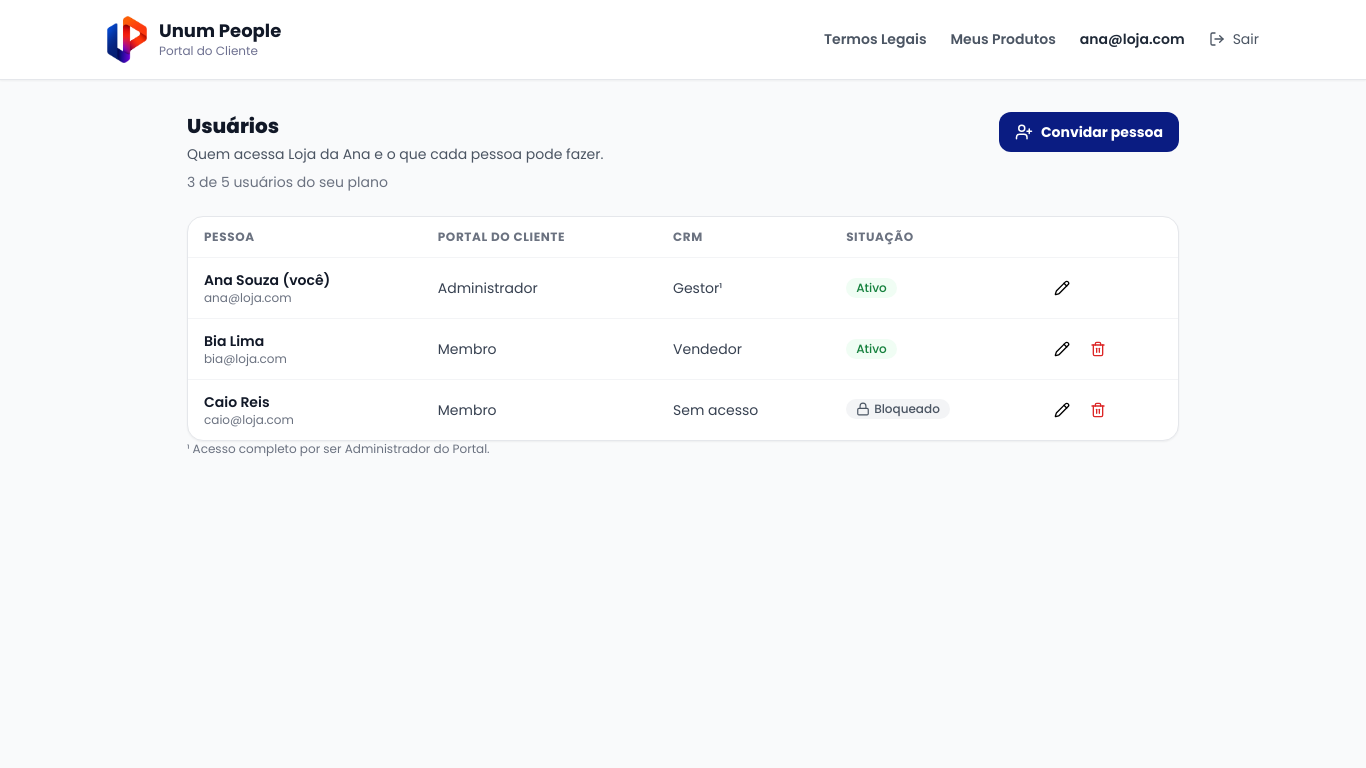
Página Usuários › convidado aparece mesmo se a lista recarregada ainda não o traz
Expected: the table is shown, [188, 217, 1178, 440]
Click the button "Convidar pessoa": (1089, 132) [999, 112, 1179, 152]
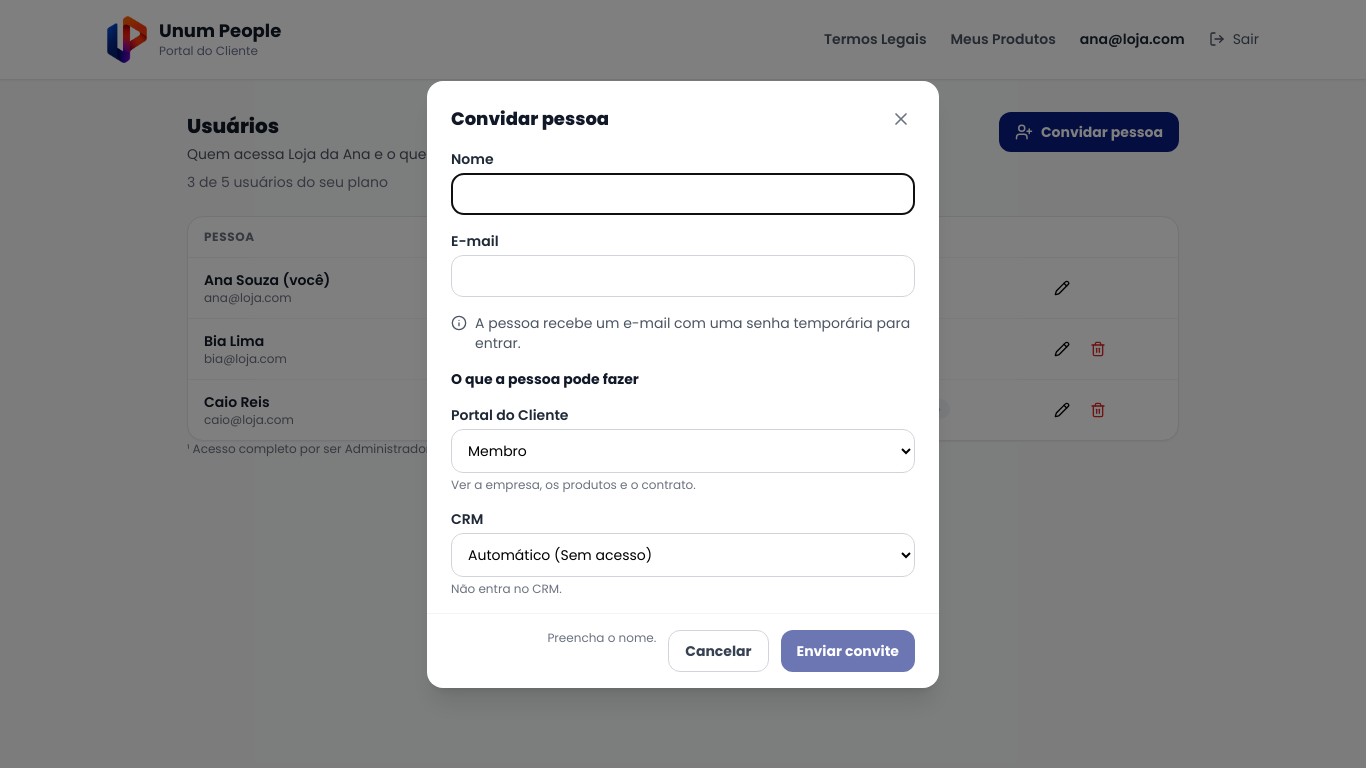
In the field labelled "Nome": (683, 194) [451, 172, 915, 214], type "Edu Prado"
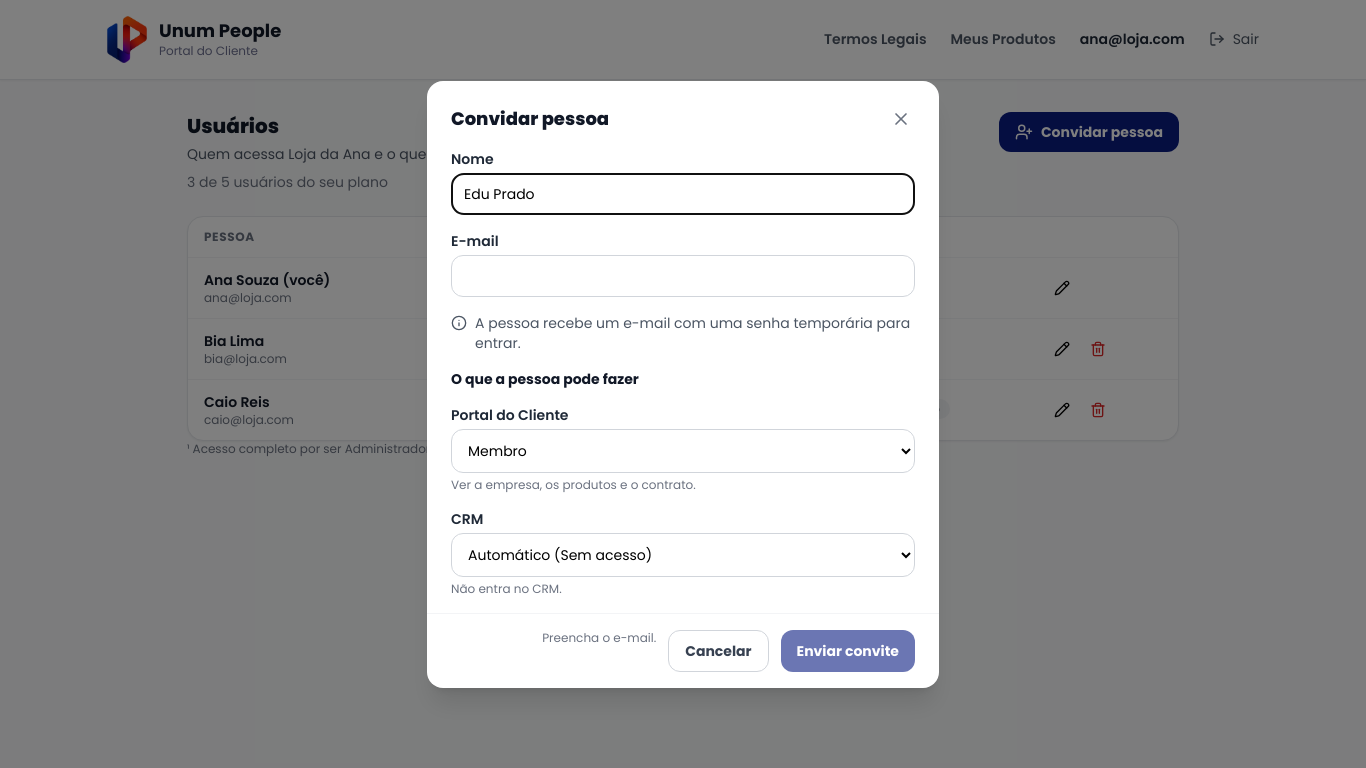
In the field labelled "E-mail": (683, 276) [451, 254, 915, 296], type "edu@loja.com"
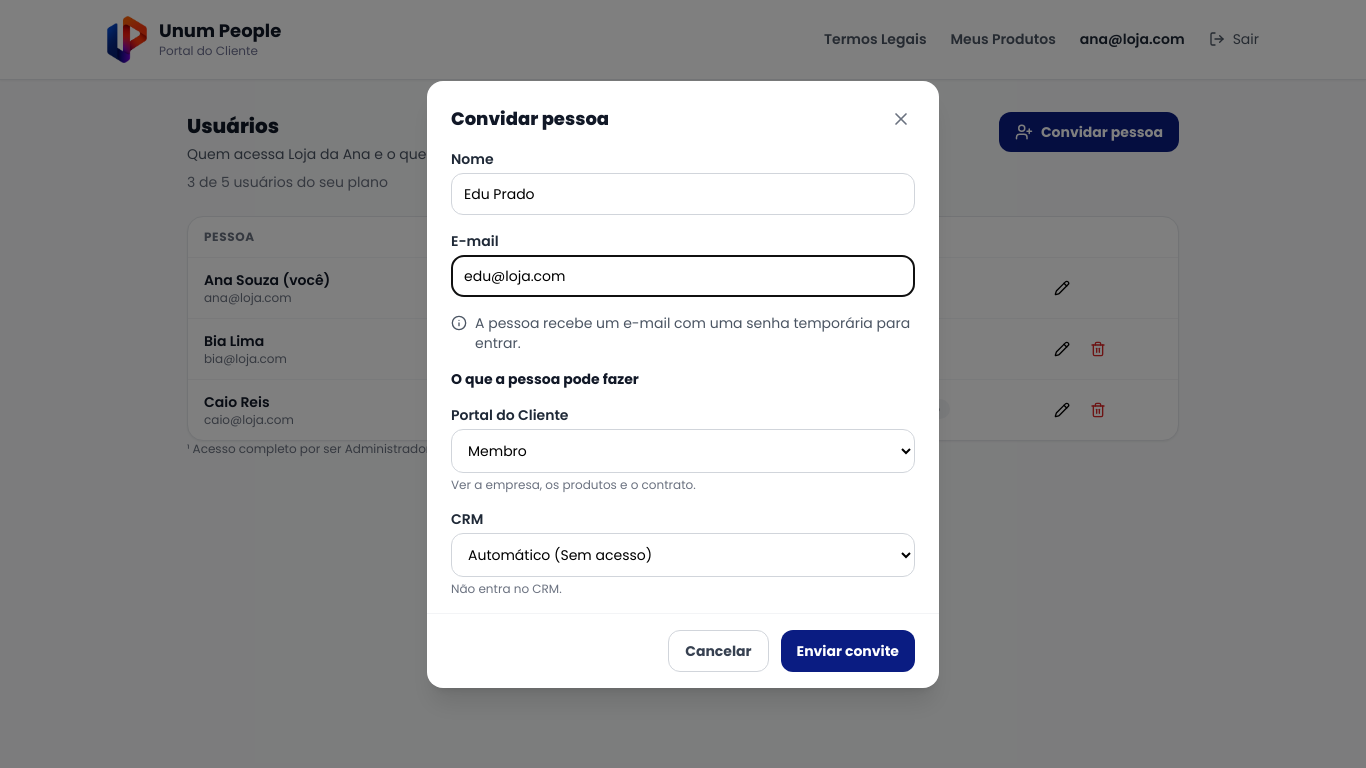
Click the button "Enviar convite": (848, 650) [781, 630, 915, 672]
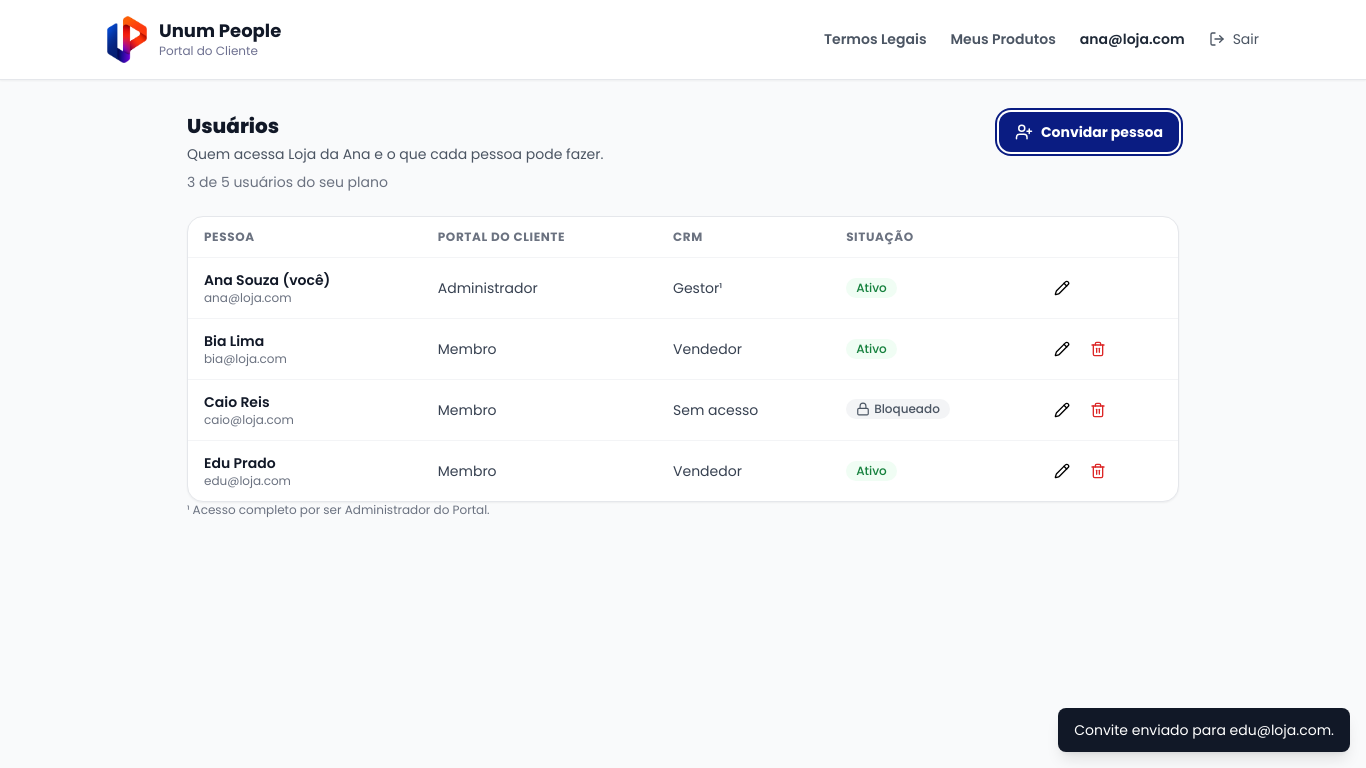
Expected: the message "Convite enviado para edu@loja.com." is shown, [1058, 708, 1350, 752]
Expected: the text "Edu Prado" is shown, [204, 453, 276, 473]
